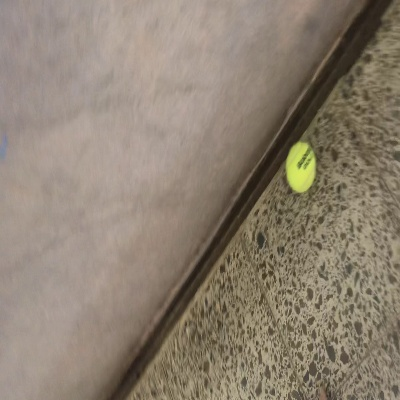Ball: (285, 143, 315, 193)
